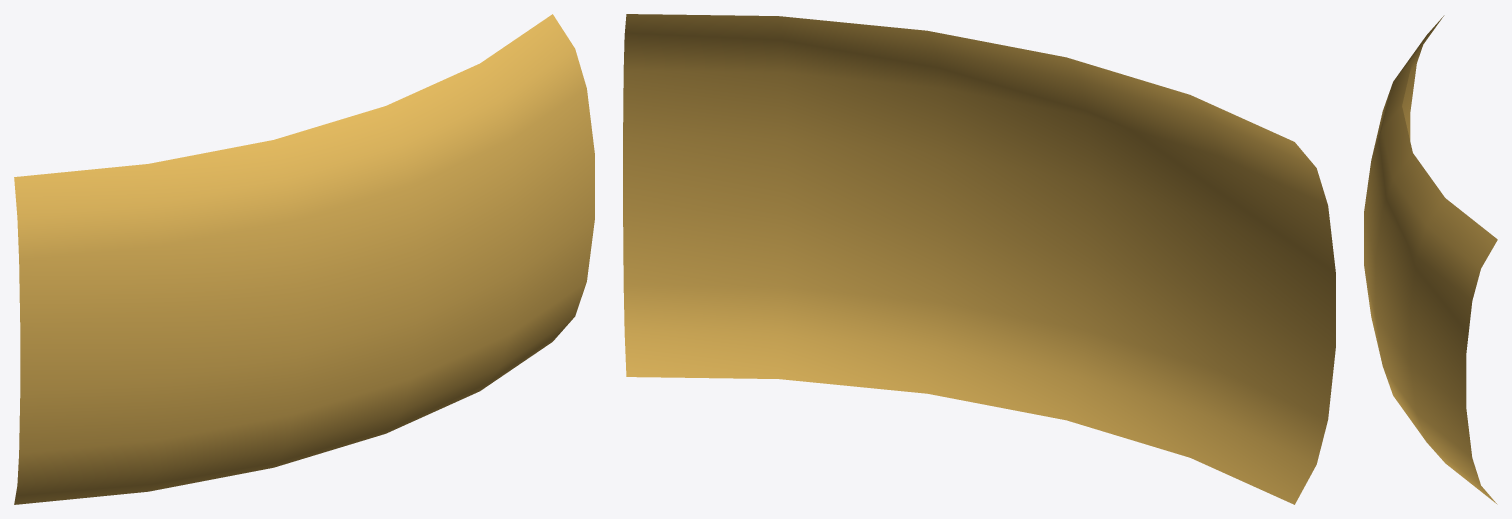
Rendered from ring-decal-1.glb.
3 views of the same model, side by side, from view 1: azimuth 30°, elevation 25°; view 2: azimuth 150°, elevation 25°; view 3: azimuth 270°, elevation 25° (orthographic). The views are drawn at different scales.
Visible parts, largest first — view 1: Ring.002; view 2: Ring.002; view 3: Ring.002.
Boxes of the visible parts, bbox=[...] form: Ring.002: bbox=[14, 14, 594, 504]; Ring.002: bbox=[623, 14, 1335, 504]; Ring.002: bbox=[1364, 15, 1497, 504].
Size of the model in its own units: 0.1973 by 0.1015 by 0.0464.
